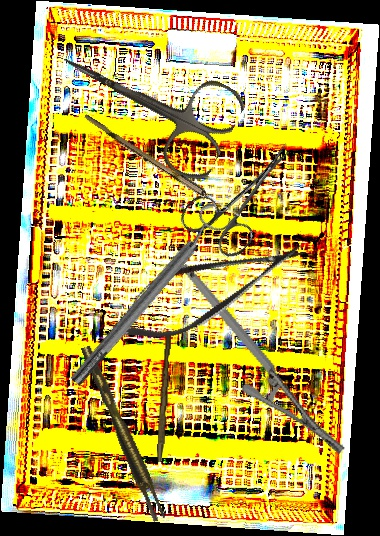Fixation Ring: (60, 199, 235, 393)
Iris Scissors: (41, 12, 250, 188), (175, 121, 315, 267)
Micro Scissor: (102, 219, 316, 358)
Needle Holder: (180, 234, 348, 483)
Scalpel Handle: (156, 330, 173, 463)
Surgical Spoon: (81, 114, 252, 225)
Tissue Forceps: (80, 341, 167, 525)
